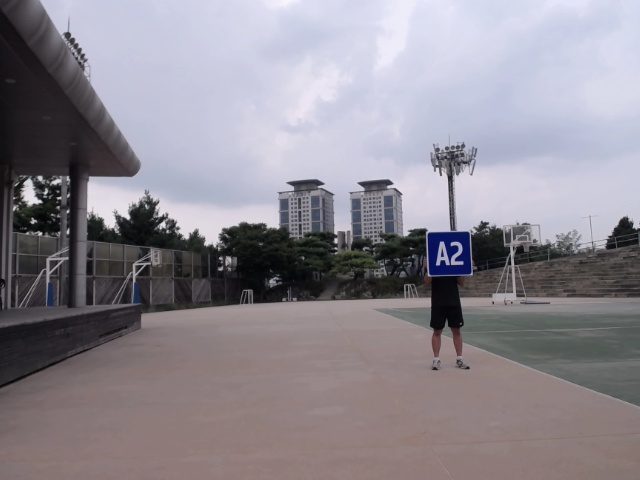delivery_a2: (427, 231, 472, 276)
